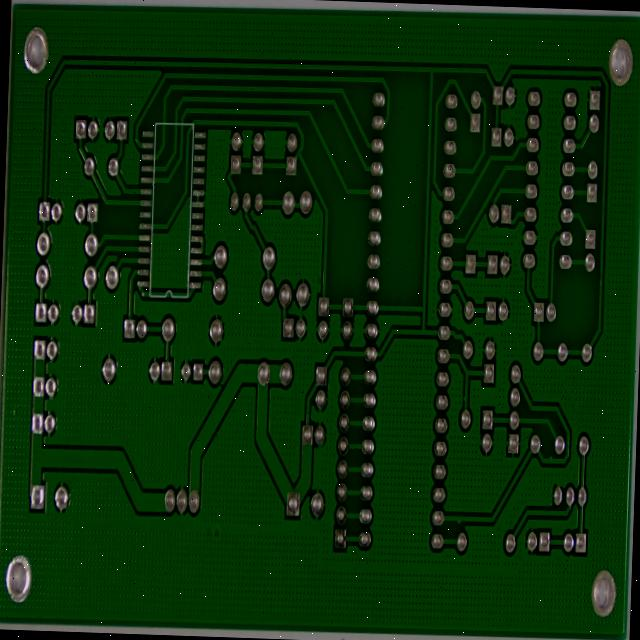spur: (469, 496, 480, 515), (478, 357, 487, 377), (565, 428, 575, 445)
